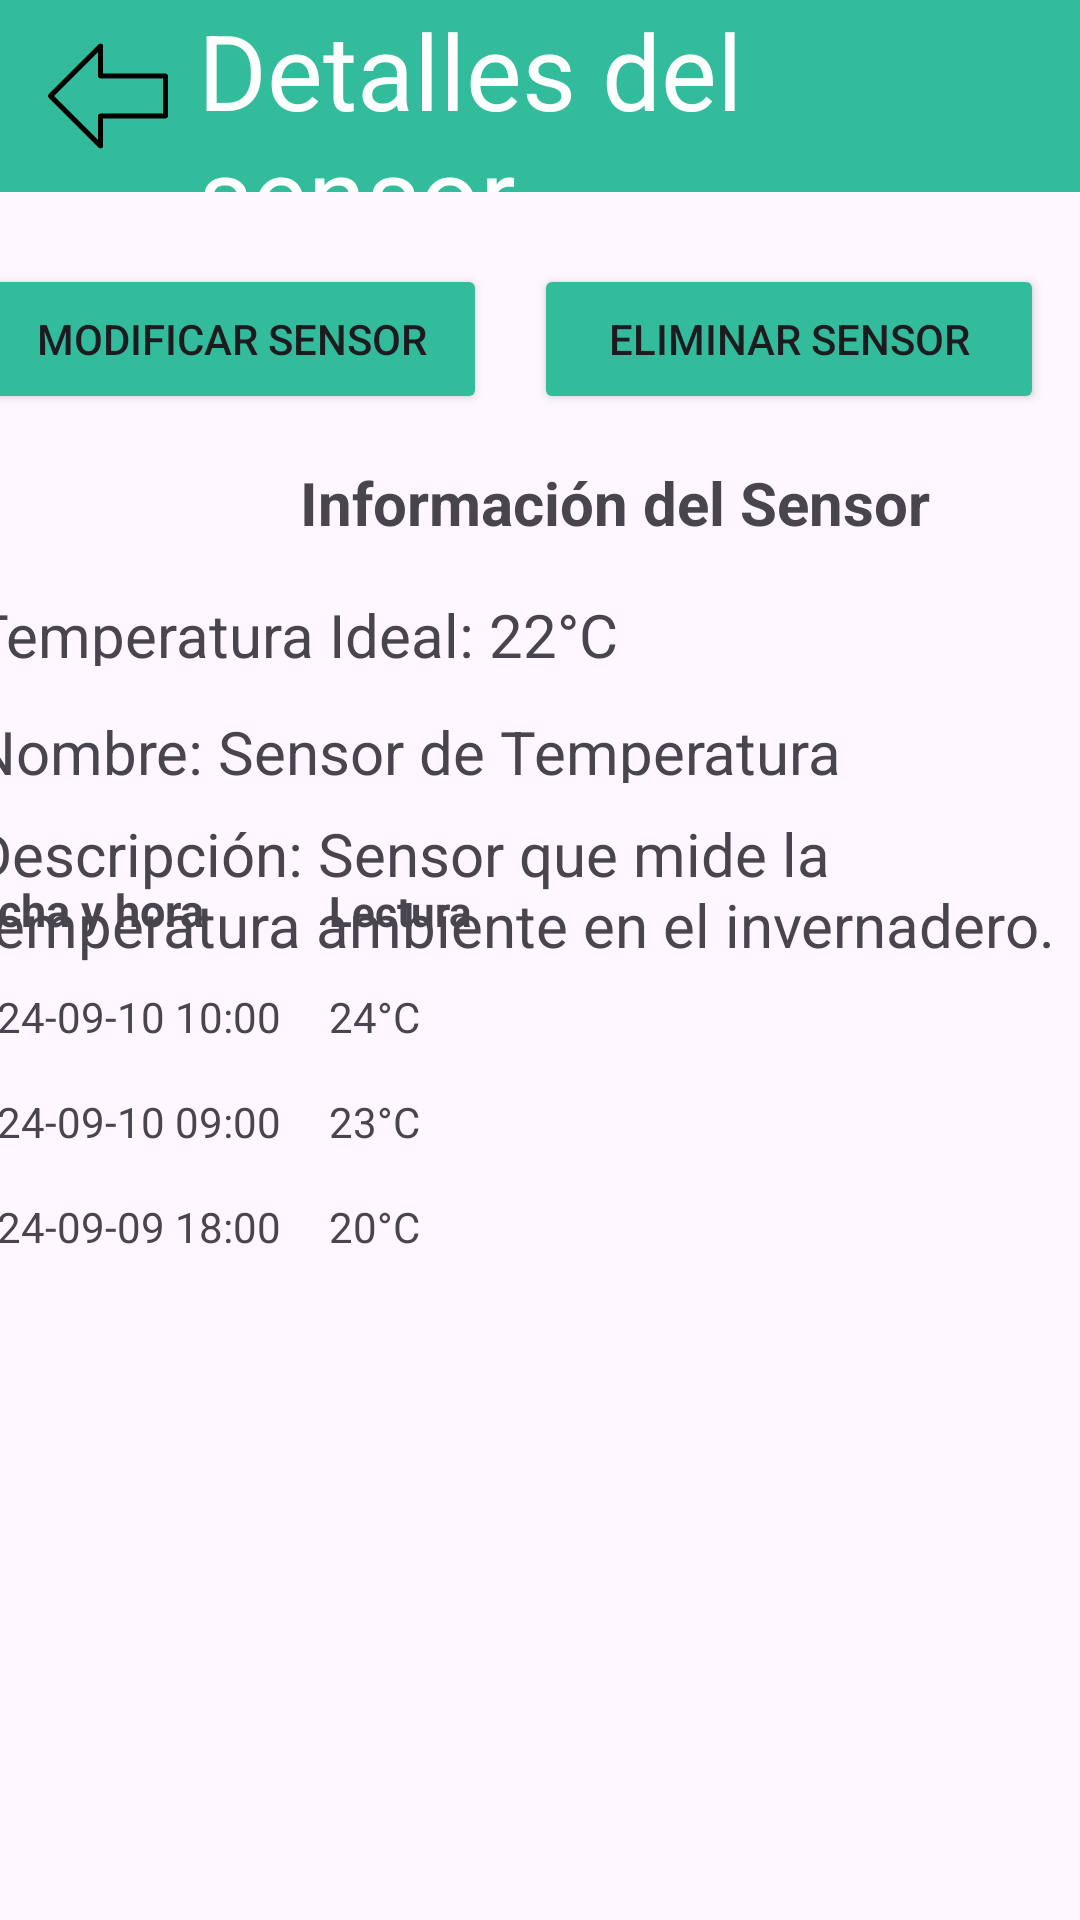

Where icons sit on this 1080px×1920px app screen, as (x1, y1, x2, y2):
flechaizquierda: (48, 43, 168, 149)
